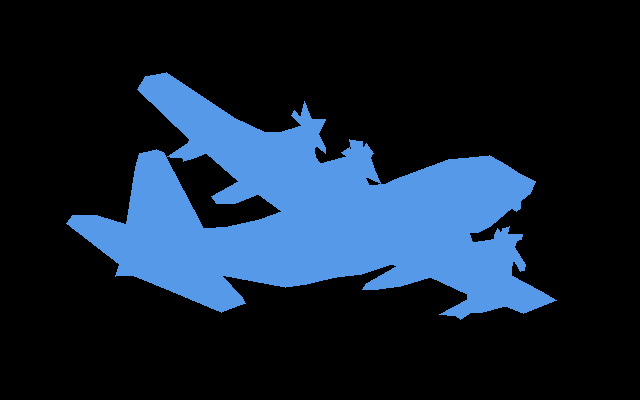Airplane: (66, 72, 557, 320)
